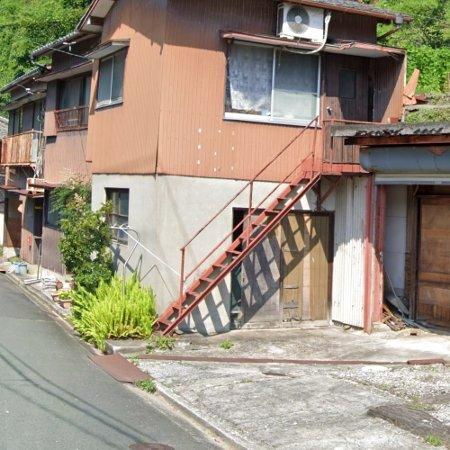stairs: (155, 154, 322, 336)
